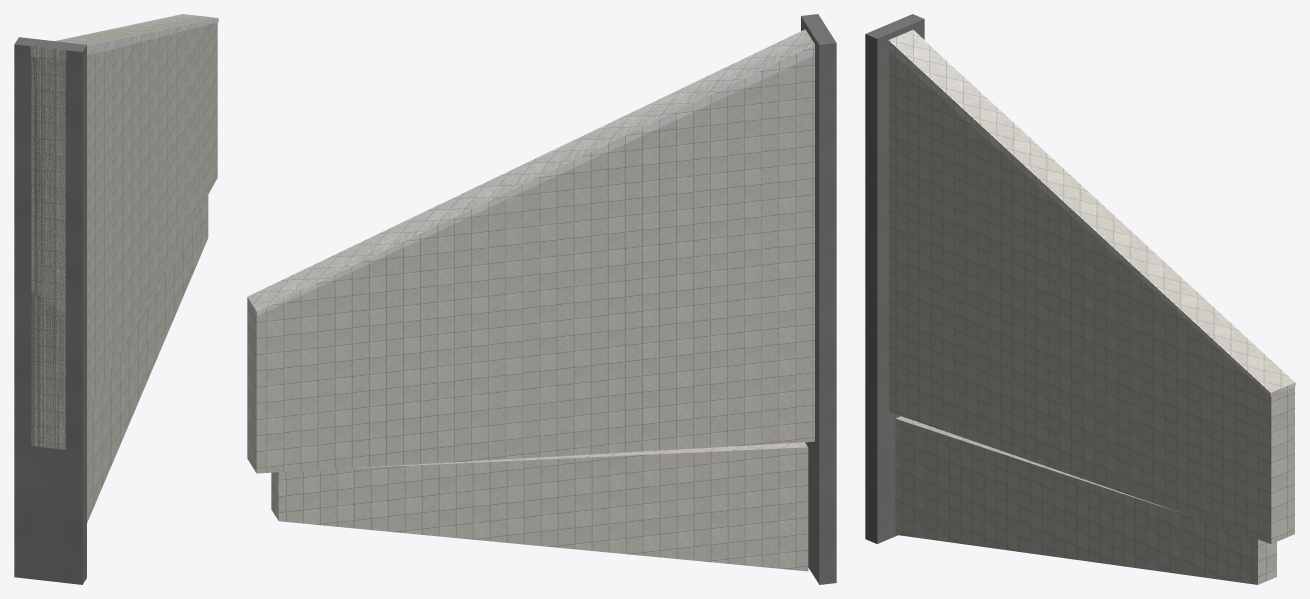
File: aero05_tail_fin_l_vtail.glb
3 views of the same model, side by side, from view 1: azimuth 30°, elevation 25°; view 2: azimuth 150°, elevation 25°; view 3: azimuth 270°, elevation 25° (orthographic). The views are drawn at different scales.
Visible parts, largest first — view 1: fin, root_flange, surface_rudder, fin_le; view 2: fin, surface_rudder, fin_le, root_flange; view 3: fin, surface_rudder, root_flange, fin_le.
Boxes of the visible parts, bbox=[...] form: fin: bbox=[31, 14, 217, 449]; root_flange: bbox=[14, 37, 86, 584]; surface_rudder: bbox=[87, 195, 208, 522]; fin_le: bbox=[30, 14, 218, 60]; fin: bbox=[247, 30, 814, 473]; surface_rudder: bbox=[271, 442, 808, 571]; fin_le: bbox=[247, 29, 814, 315]; root_flange: bbox=[801, 14, 836, 584]; fin: bbox=[889, 30, 1294, 543]; surface_rudder: bbox=[895, 416, 1276, 584]; root_flange: bbox=[865, 14, 924, 543]; fin_le: bbox=[888, 30, 1295, 396].
Bounding box in the file's own units: 3.86 × 5 × 3.86.
Materials: 3 (3 with a texture image).
